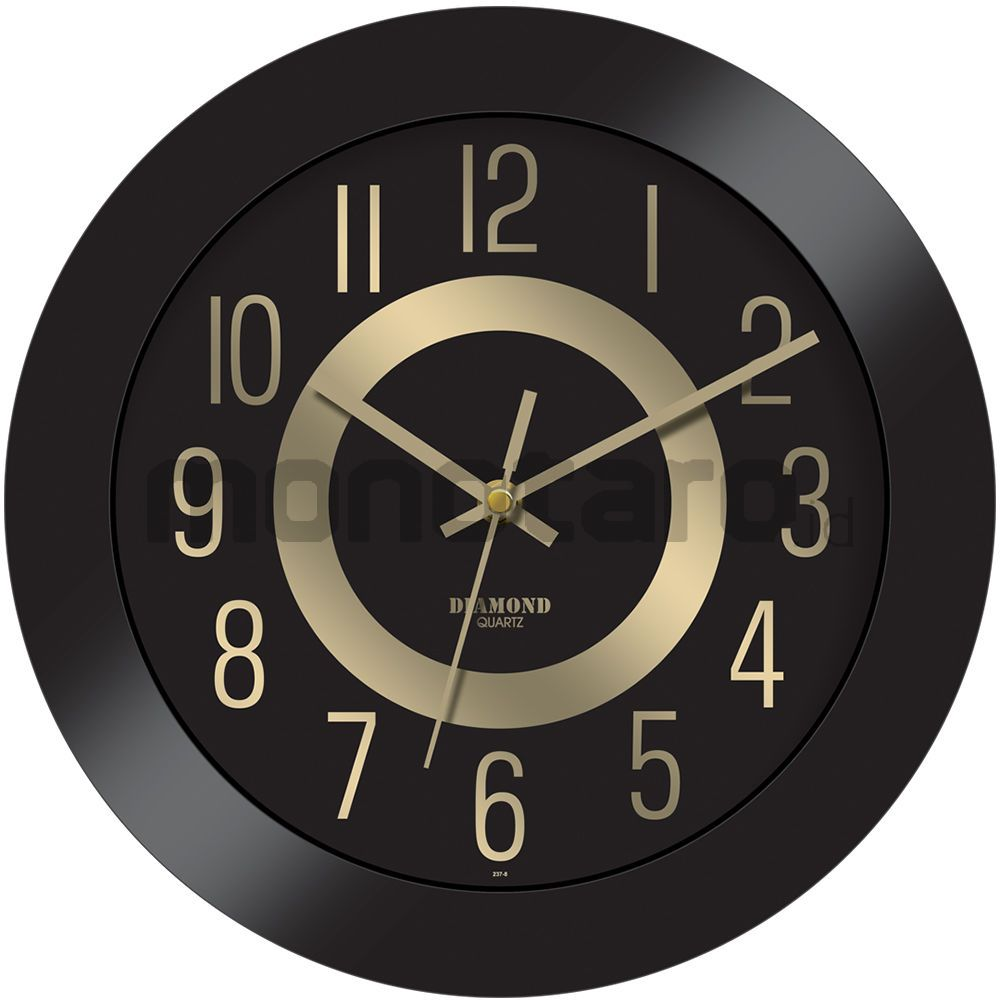jam dinding: (34, 7, 988, 980)
